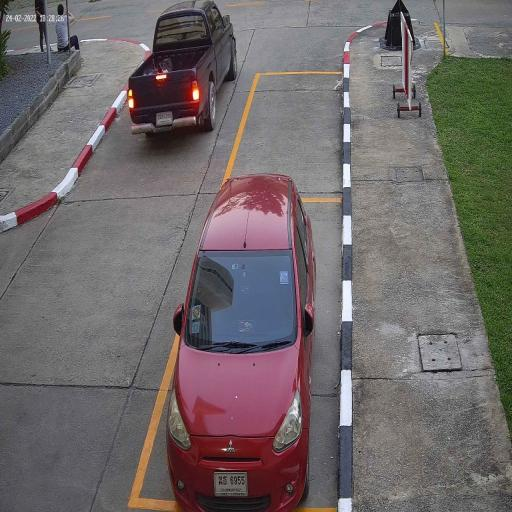car: (165, 171, 317, 512), (127, 0, 239, 141)
